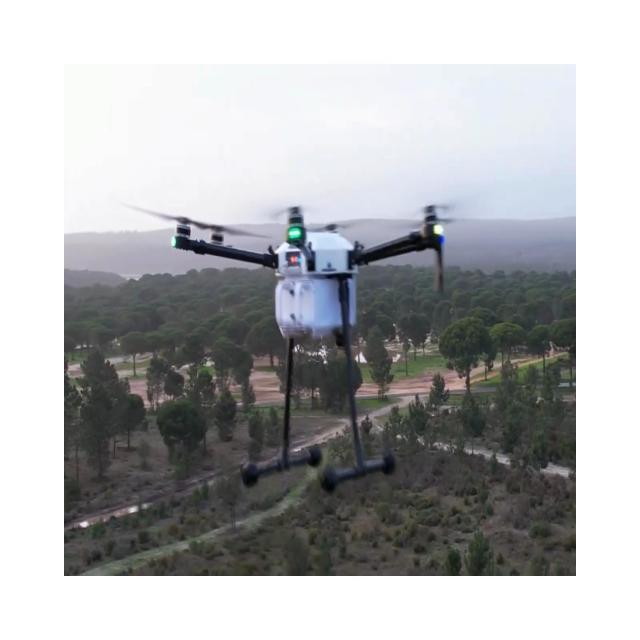drone: (122, 200, 455, 493)
